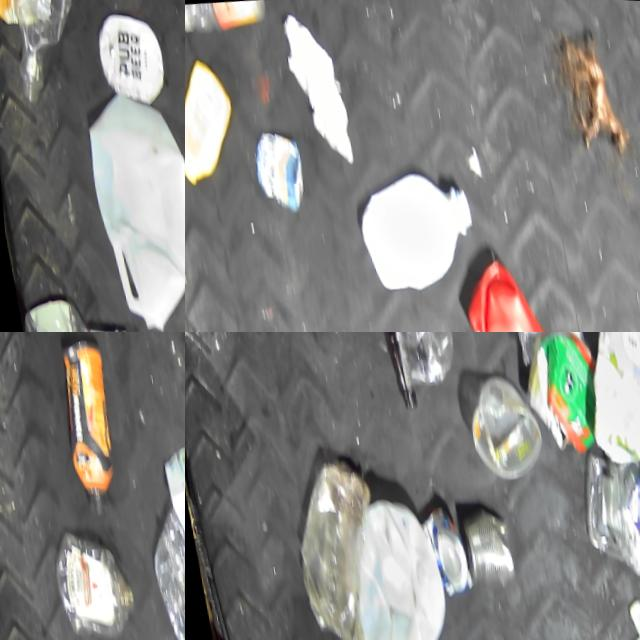can: (405, 486, 468, 601), (444, 488, 511, 593), (245, 127, 307, 216)
milk_jug: (73, 88, 185, 332), (320, 487, 452, 640), (346, 162, 481, 295)
non_white_jug: (450, 248, 578, 332), (185, 54, 241, 187)
plastic_bottle: (185, 0, 270, 37)
